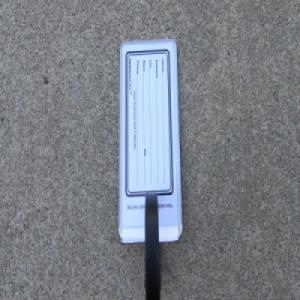LuggageTag: (117, 37, 184, 300)
